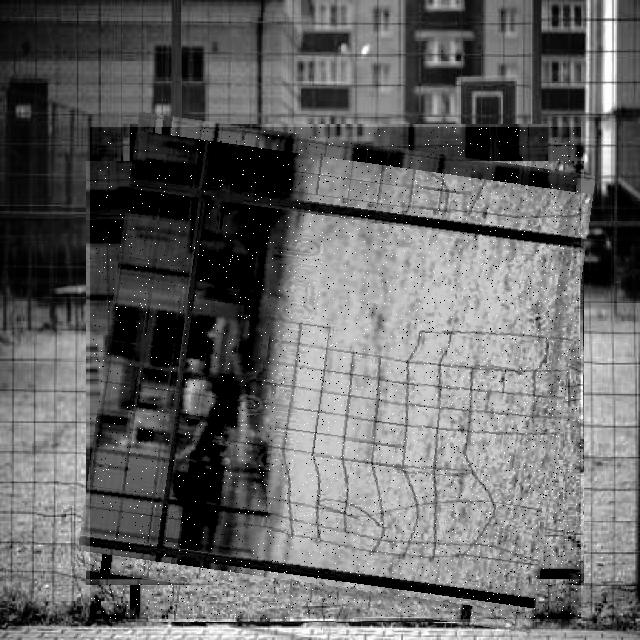anomaly-fence: (90, 127, 581, 619)
